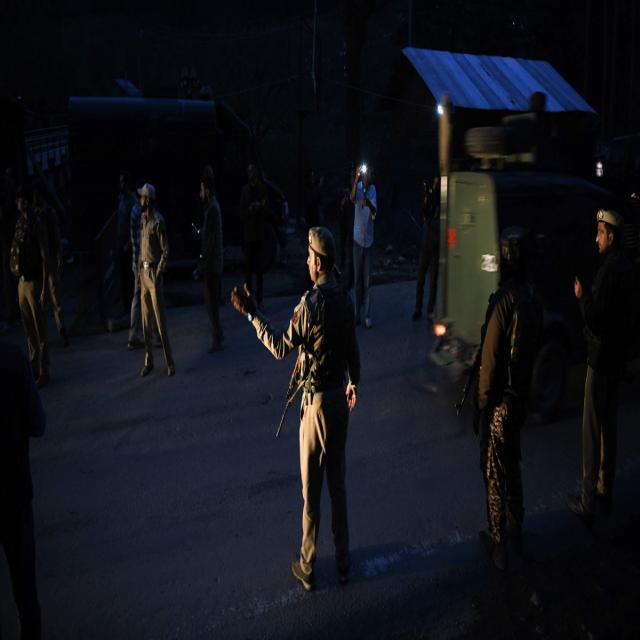Forest: (0, 2, 640, 640)
Militant: (224, 188, 367, 586), (464, 213, 548, 560), (563, 195, 626, 524), (5, 183, 68, 414), (125, 168, 183, 406), (338, 145, 384, 363), (405, 151, 454, 354)
